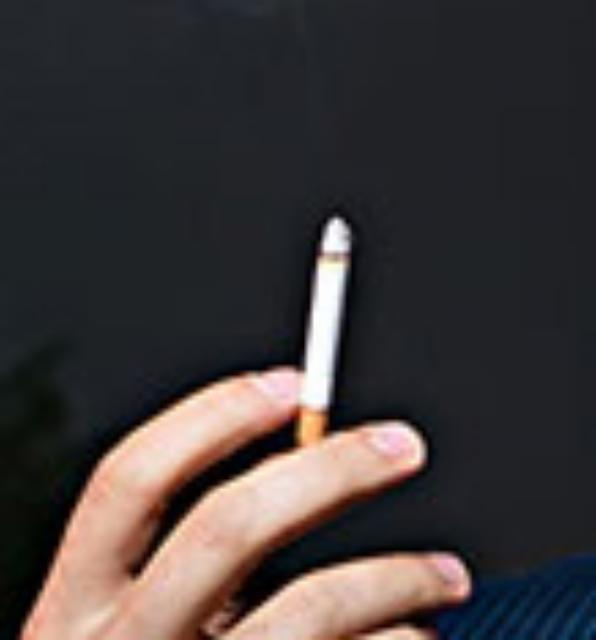Cigarette: (290, 202, 344, 438)
